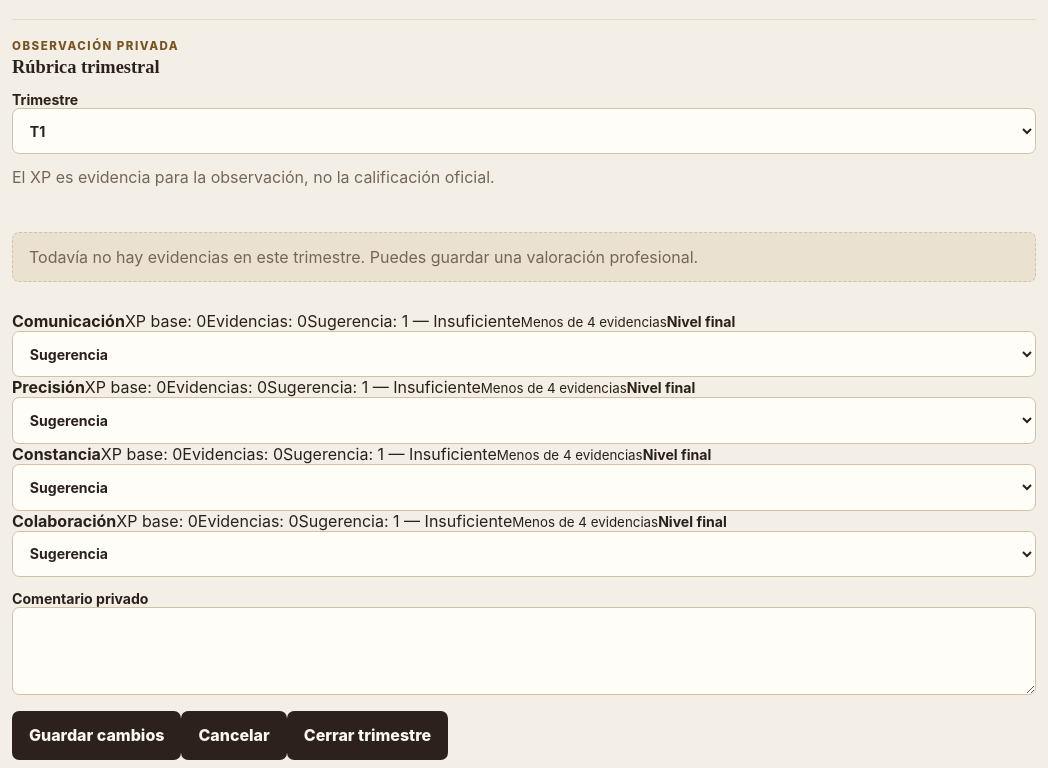
Test: QuarterlyRubric private teacher workspace › renders Spanish empty, evidence, actions, and pending states without browser persistence
This screenshot has width=1048, height=768.
Click the button "Guardar cambios" at (97, 735), box [12,711,182,760]
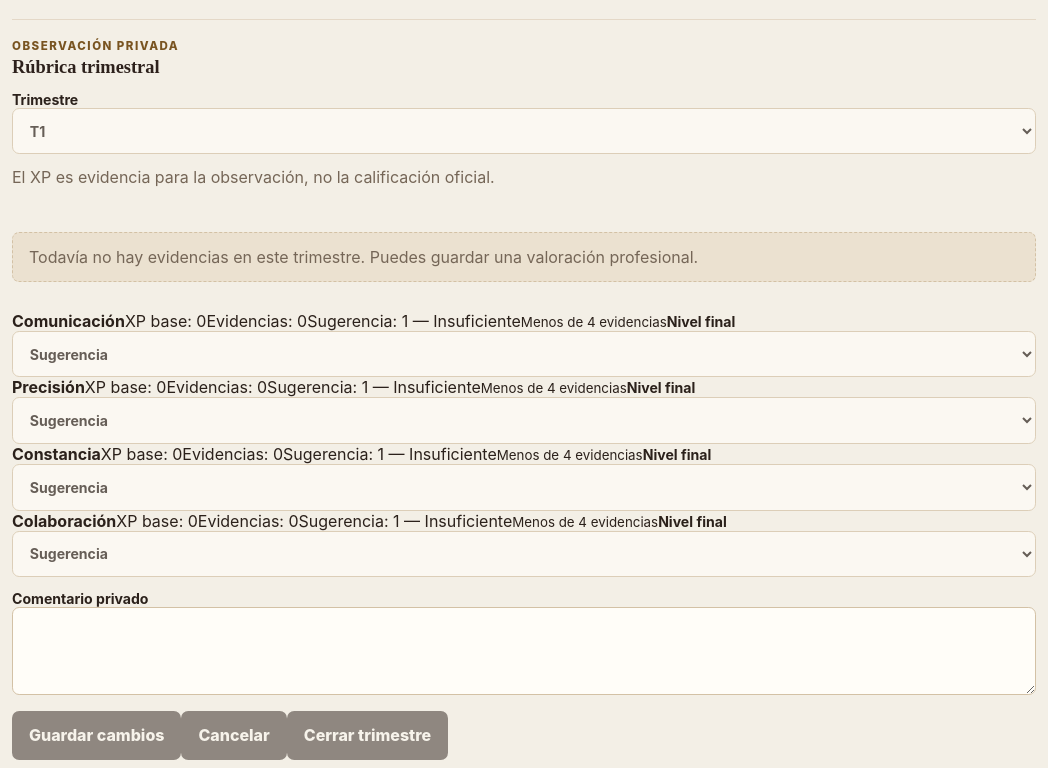
Check: the button "Guardar cambios" is disabled, box [12,711,182,760]
